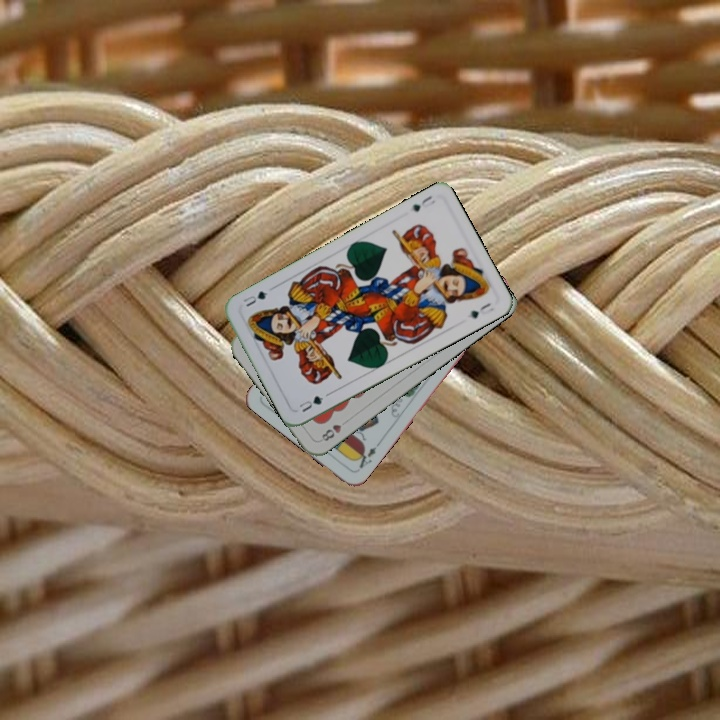EA: (351, 439, 382, 474)
GU: (295, 392, 326, 415), (408, 191, 438, 214)
H8: (317, 415, 351, 444)
